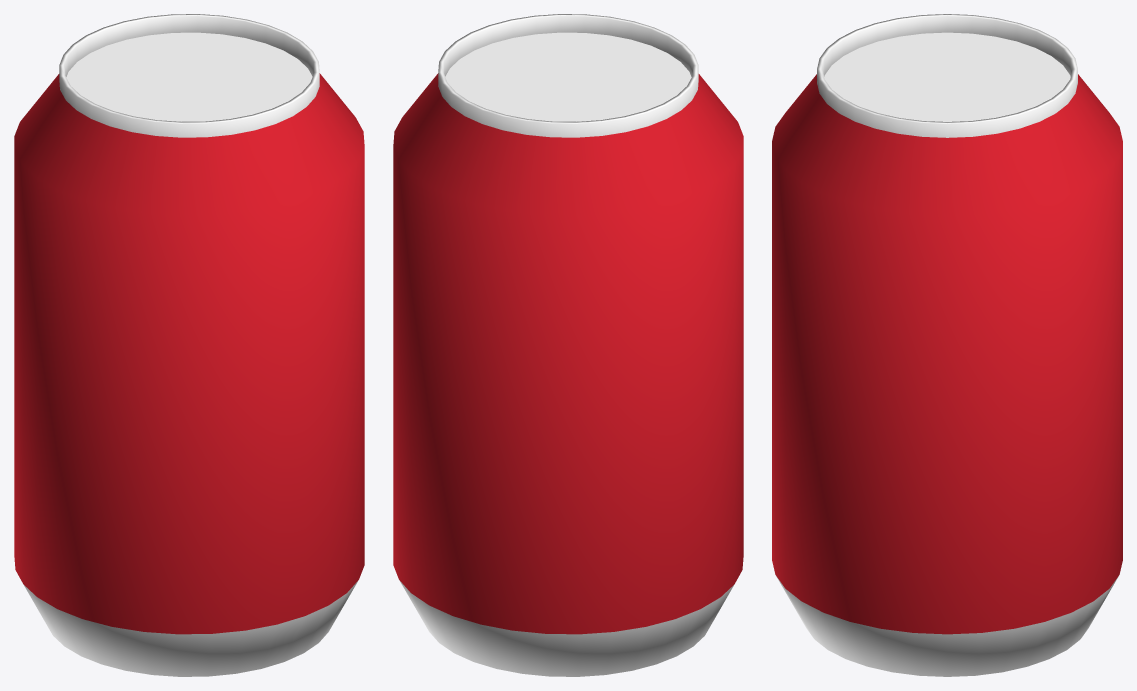
The model's file is red_can.fbx.
3 renders of one model, left to right at view 1: azimuth 30°, elevation 25°; view 2: azimuth 150°, elevation 25°; view 3: azimuth 270°, elevation 25°, orthographic.
Parts seen in each view (by area): view 1: Cylinder; view 2: Cylinder; view 3: Cylinder.
Part boxes in pixels (<box>): Cylinder: <box>14,14,364,676</box>; Cylinder: <box>393,14,743,676</box>; Cylinder: <box>772,14,1122,676</box>.
Size of the model in its own units: 200 by 344 by 200.
